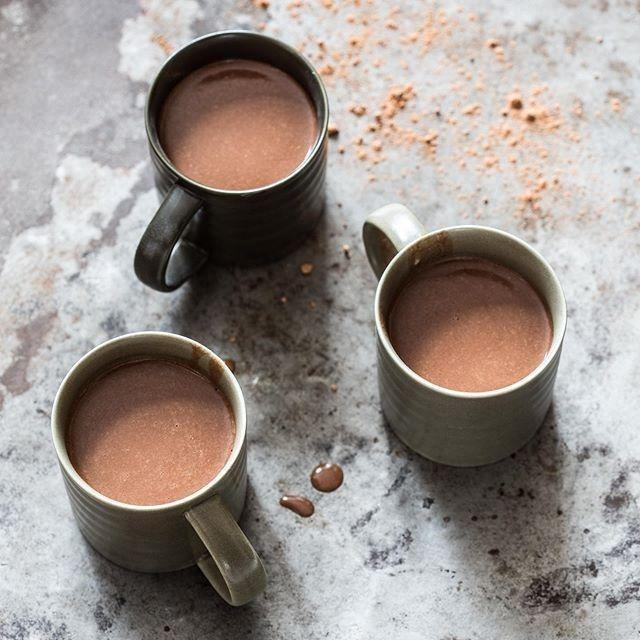cup-handle: (49, 329, 265, 605), (361, 204, 569, 470), (134, 30, 331, 292)
